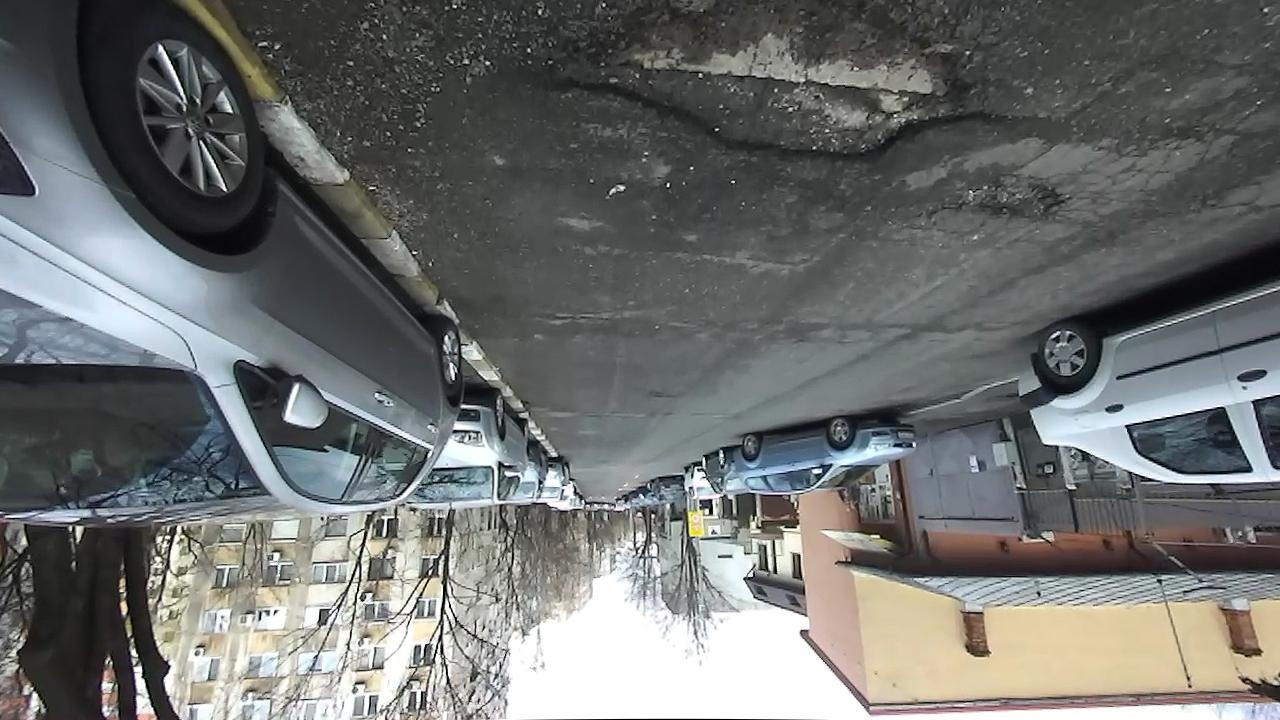pothole: (532, 0, 1009, 165), (921, 168, 1076, 231), (543, 307, 620, 331)
